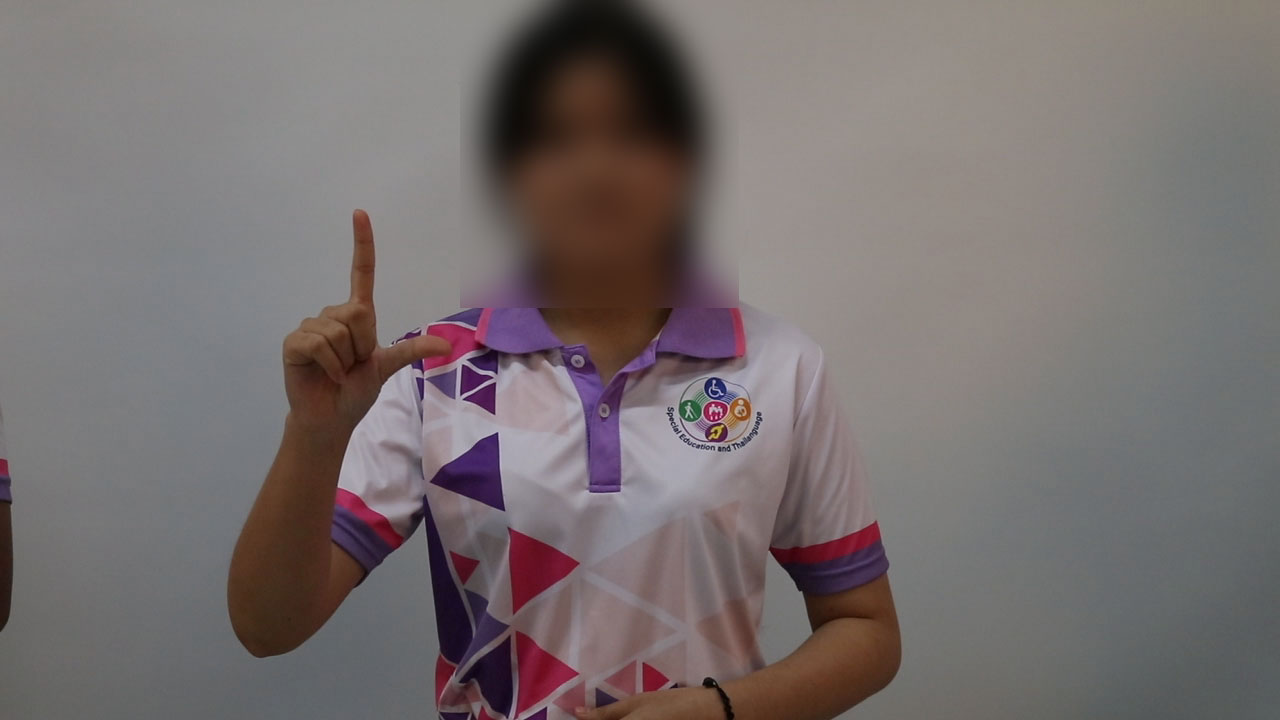lor: (264, 199, 466, 443)
